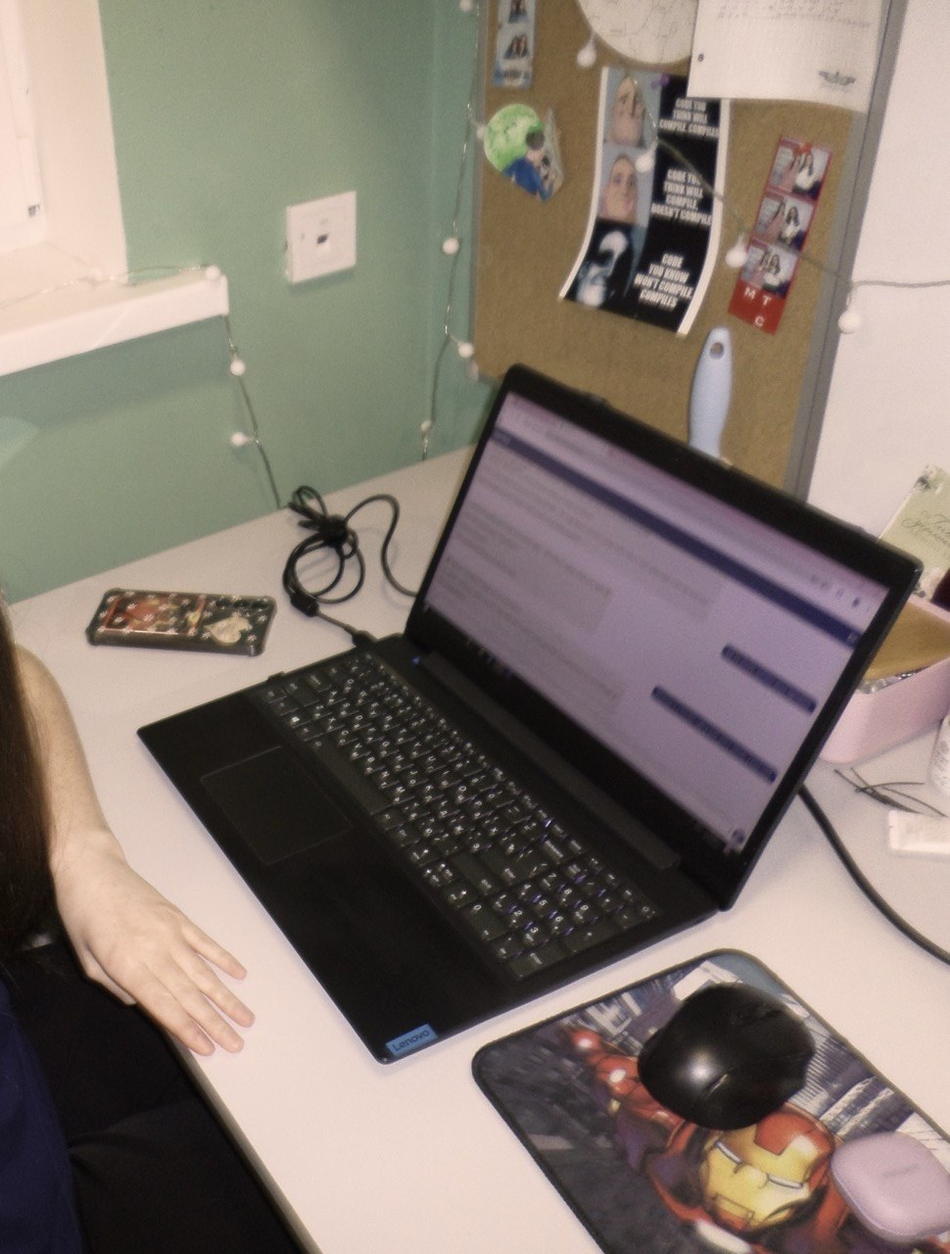cell phone: (86, 586, 277, 656)
laptop: (136, 361, 924, 1064)
